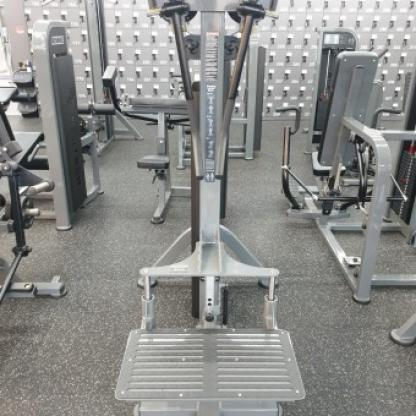lateral raises machine: (141, 0, 280, 416)
